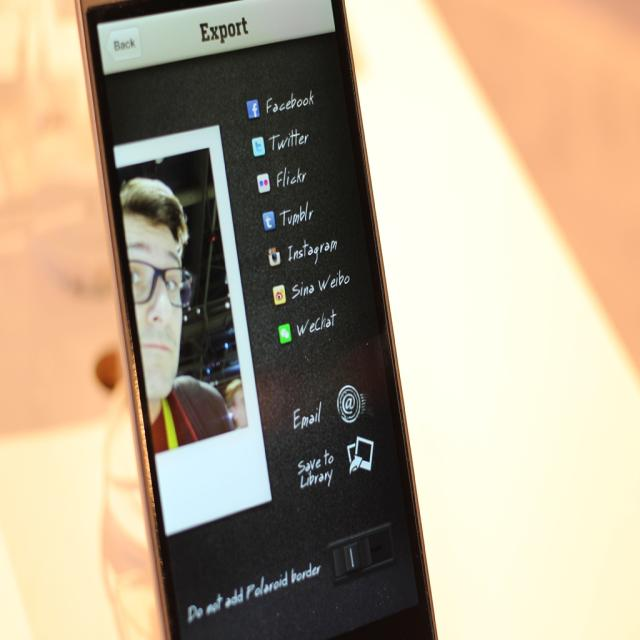Mobile-phone: (73, 0, 439, 639)
